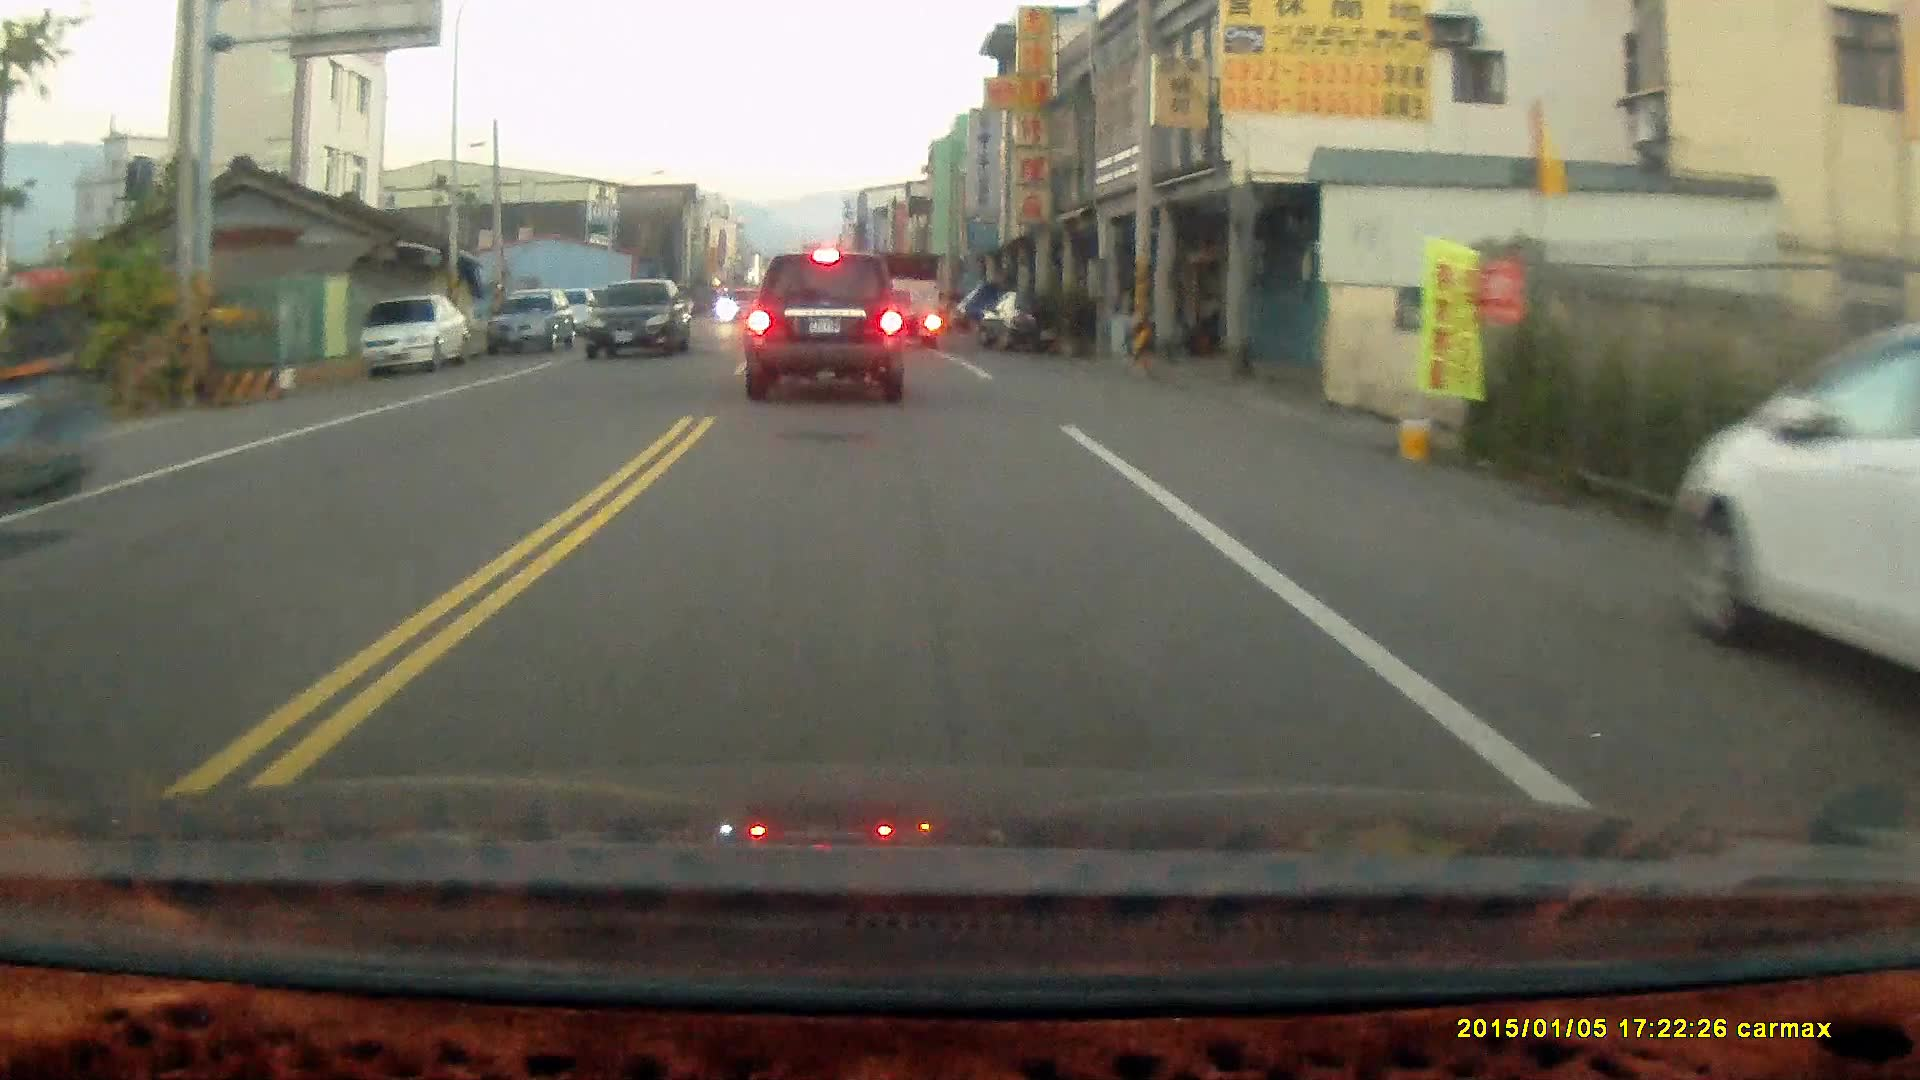rider: (0, 268, 95, 510)
vehicle: (1671, 315, 1920, 706), (745, 256, 909, 412), (356, 298, 471, 375), (590, 281, 692, 363), (864, 254, 944, 354), (489, 290, 579, 360)
